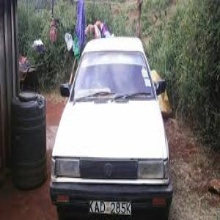no damage: (51, 35, 173, 217)
